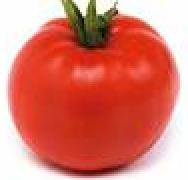tomato: (6, 15, 179, 171)
